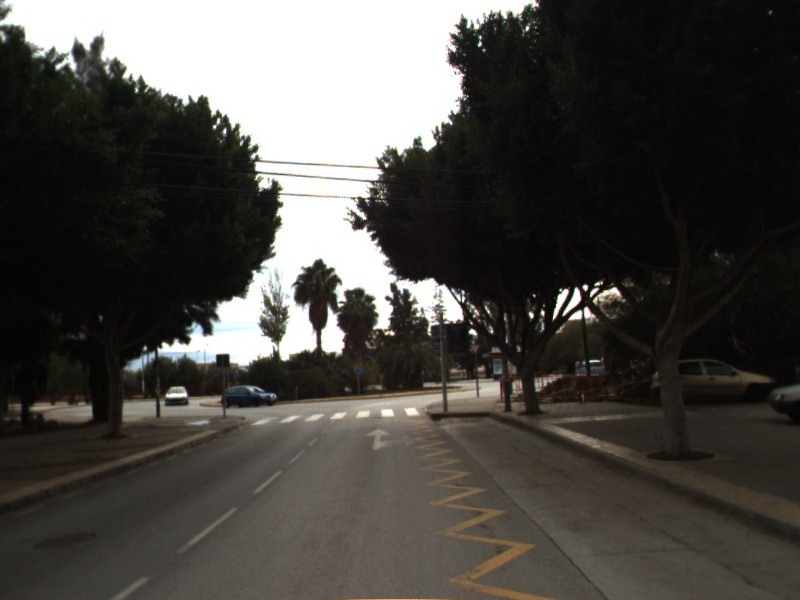STRAIGHT_RIGHT: (363, 426, 418, 452)
